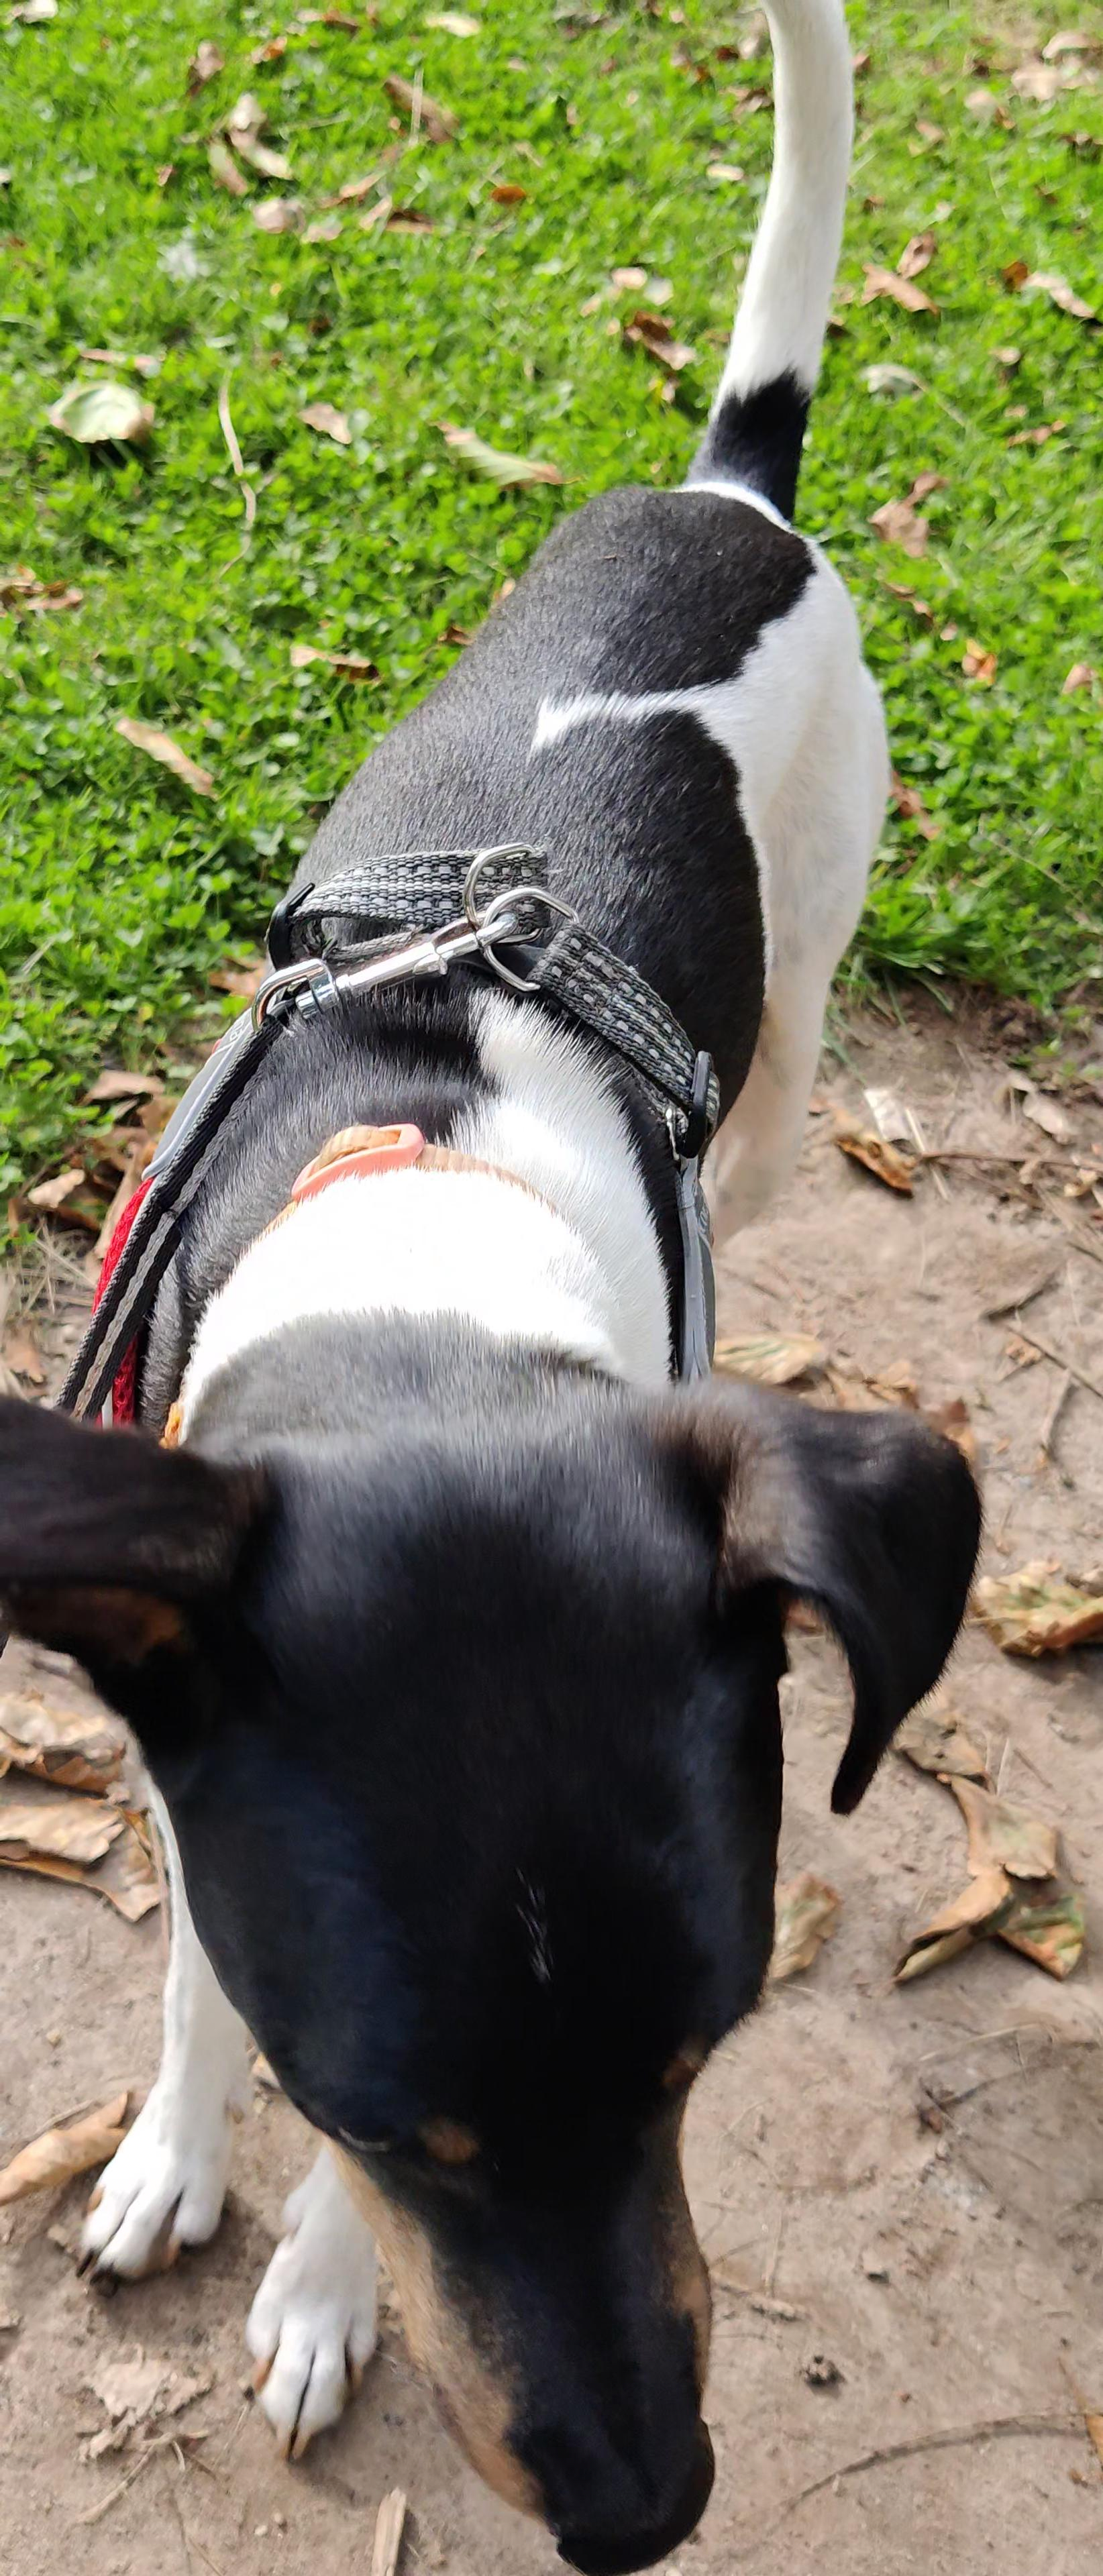Dog: (0, 0, 1027, 2576)
